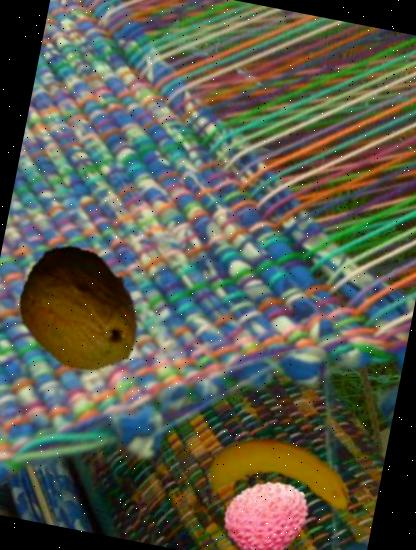Banana: (193, 401, 364, 550)
Lychee: (215, 466, 318, 550)
Papaya: (0, 229, 161, 391)
